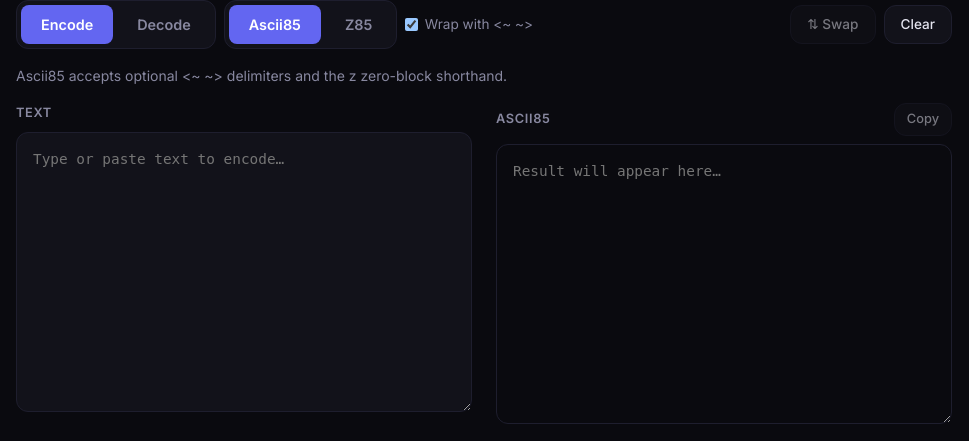
Test: Base85Tool › encodes Ascii85 with a delimiter toggle and swaps to decode
This screenshot has width=969, height=441.
Type "hello" into the text box labelled "Text" at (244, 272), box [16,132,472,412]
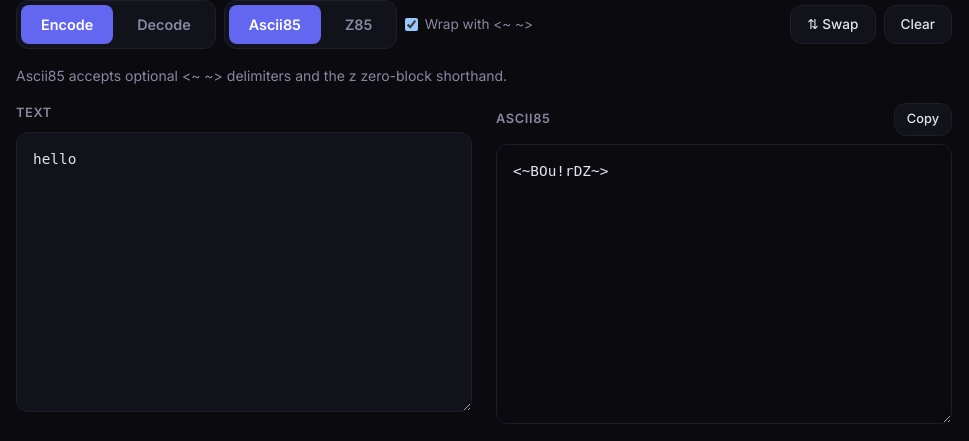
Now the text box labelled "Ascii85" holds "<~BOu!rDZ~>", box [496,144,952,424]
Click the checkbox labelled "Wrap with <~ ~>" at (412, 24), box [405,18,418,31]
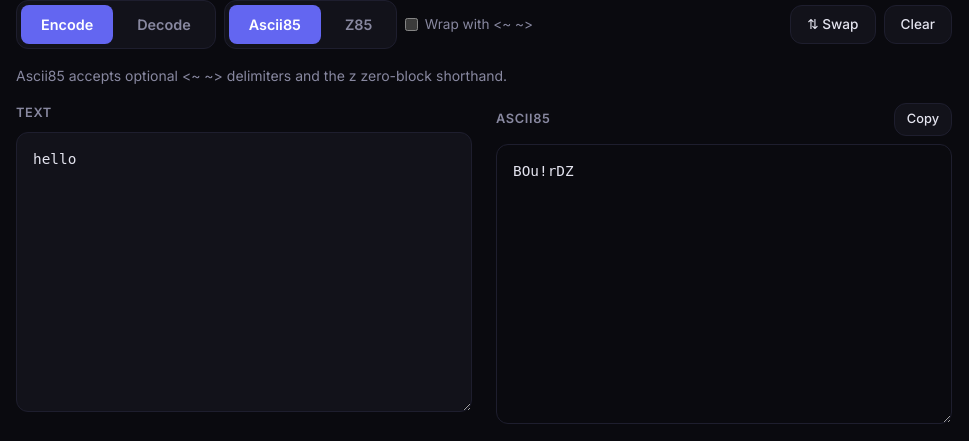
Now the text box labelled "Ascii85" holds "BOu!rDZ", box [496,144,952,424]
Click the button "⇅ Swap" at (833, 24), box [790,5,876,44]
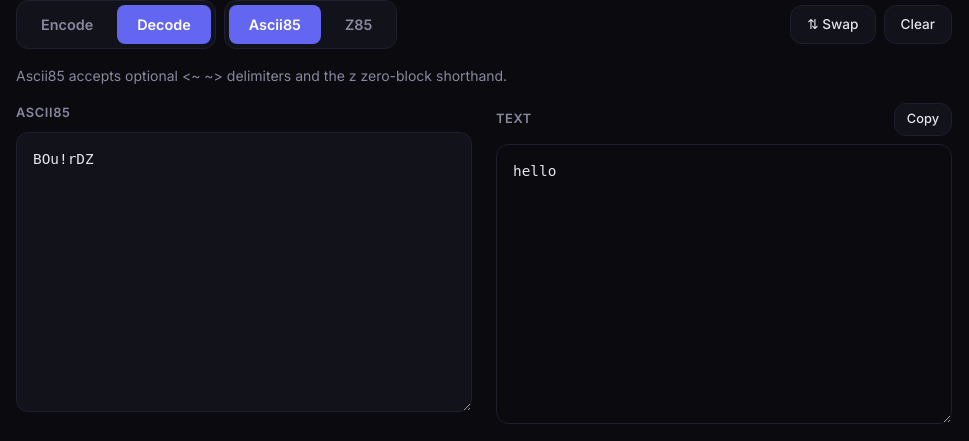
Now the text box labelled "Ascii85" holds "BOu!rDZ", box [16,132,472,412]
Now the text box labelled "Text" holds "hello", box [496,144,952,424]
